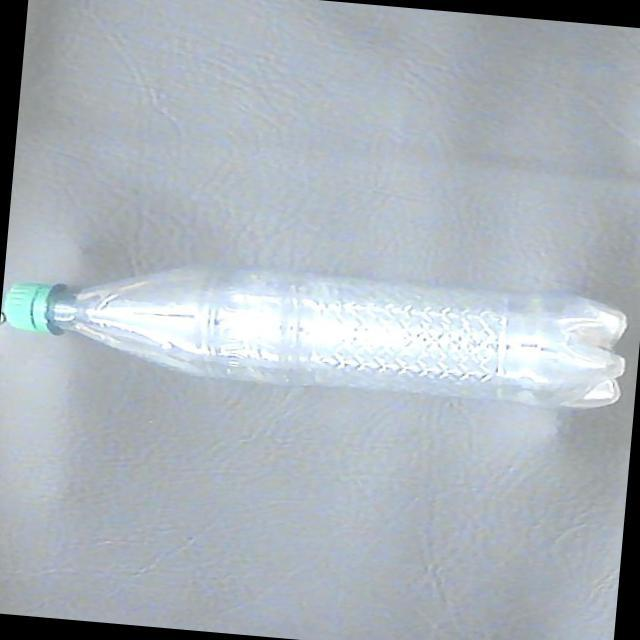good: (1, 240, 632, 418)
